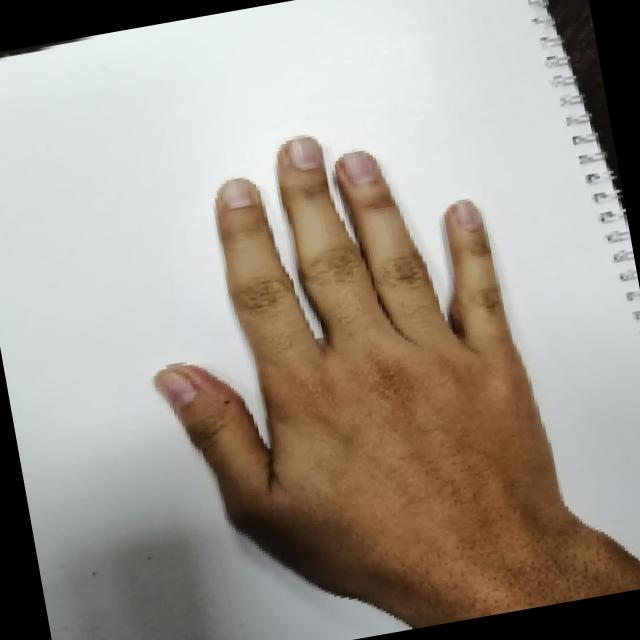Nail: (155, 370, 197, 413), (341, 149, 379, 184), (288, 135, 323, 170), (222, 178, 253, 208), (455, 198, 482, 230)
